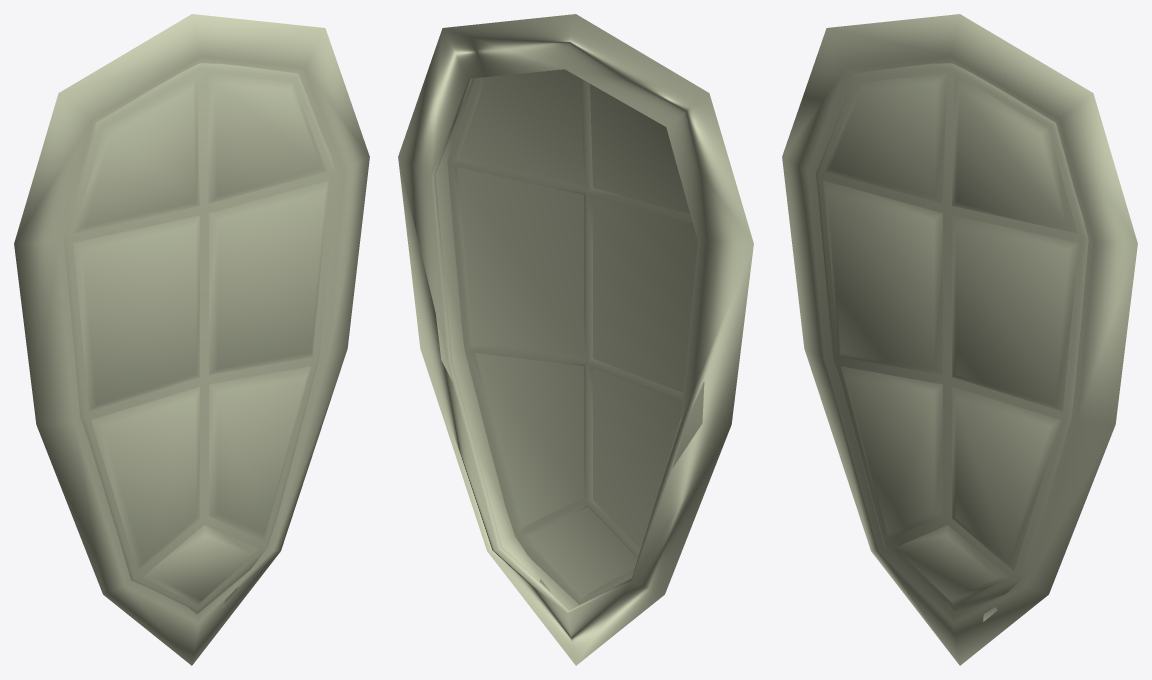
The model's file is Bouclier.obj.
3 renders of one model, left to right at view 1: azimuth 30°, elevation 25°; view 2: azimuth 150°, elevation 25°; view 3: azimuth 330°, elevation 25°, orthographic.
Visible parts, largest first — view 1: Cube1; view 2: Cube1; view 3: Cube1.
Boxes of the visible parts, x1=… form: Cube1: x1=14, y1=14, x2=369, y2=665; Cube1: x1=398, y1=14, x2=753, y2=665; Cube1: x1=782, y1=14, x2=1137, y2=665.
Size of the model in its own units: 2.29 by 4 by 0.2963.
